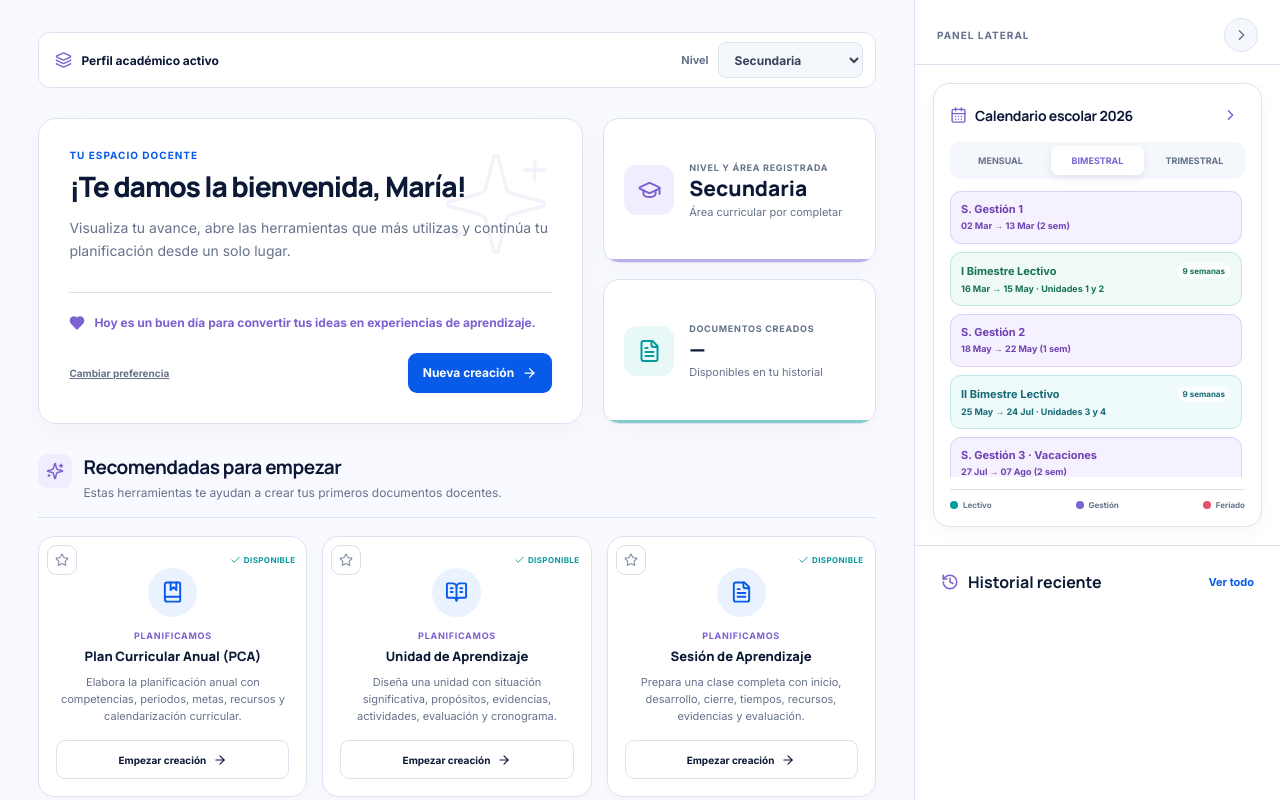
Test: DashboardPage › updates the daily teaching preference
What coordinates should you click on to do the following:
click the button "Cambiar preferencia"
I would click on:
 (119, 373)
Its box is [69,361,169,385].
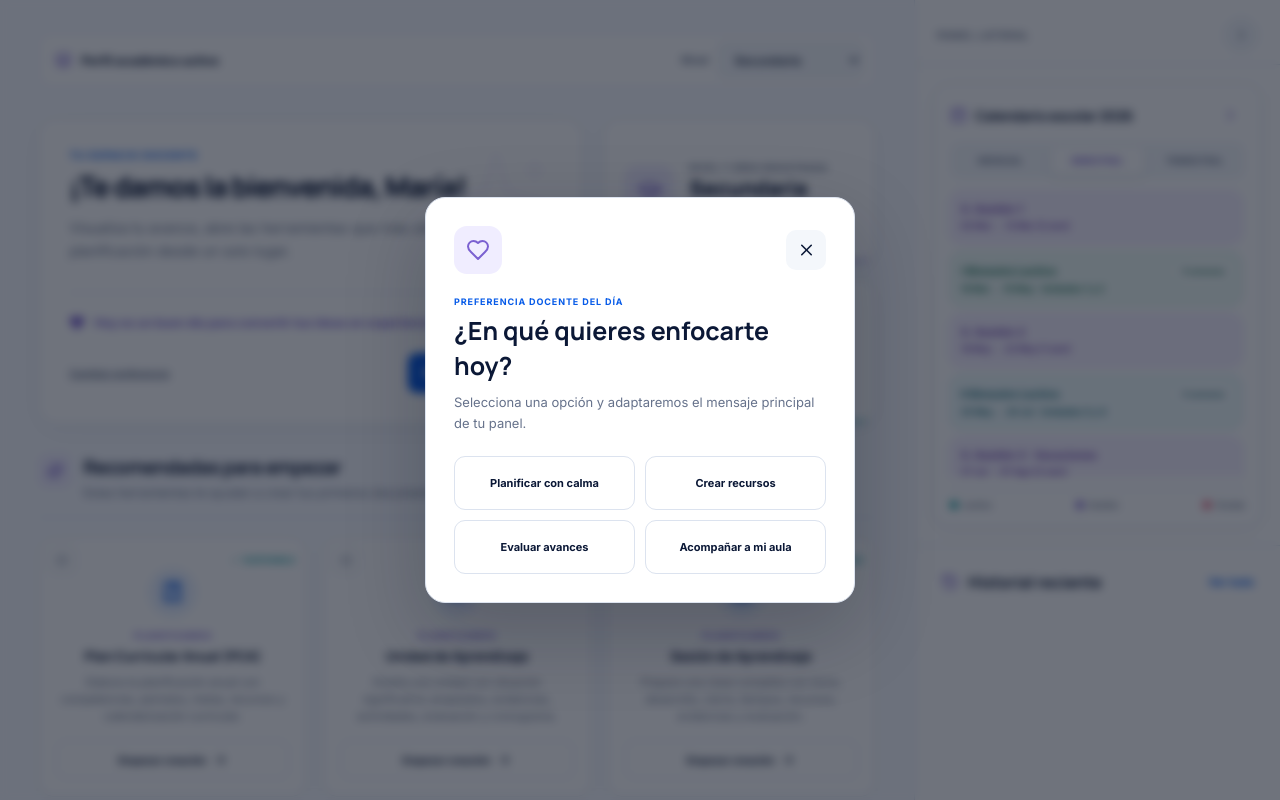
Expected: the dialog "¿En qué quieres enfocarte hoy?" is shown
What coordinates should you click on to do the following:
click the button "Crear recursos"
I would click on:
 (736, 483)
Its box is [645,456,826,510].
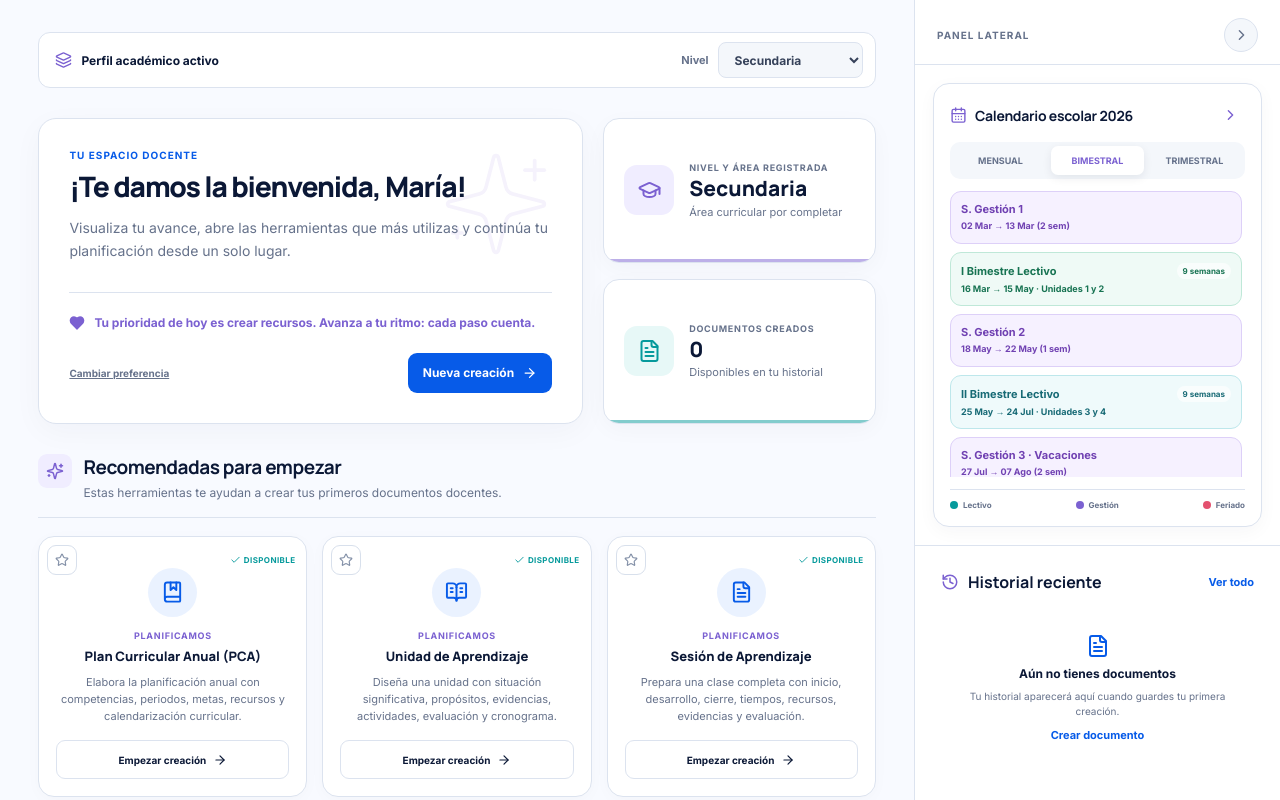
Expected: the text "Tu prioridad de hoy es crear recursos" is shown, [94,315,535,330]
